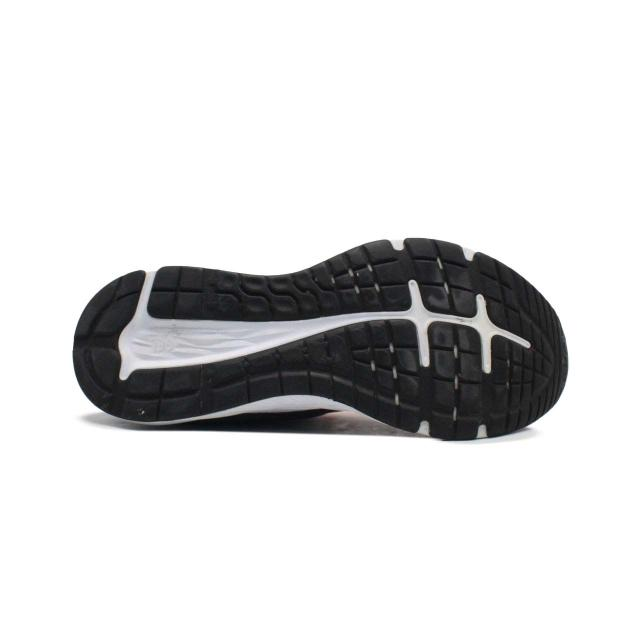outersole: (71, 239, 573, 441)
